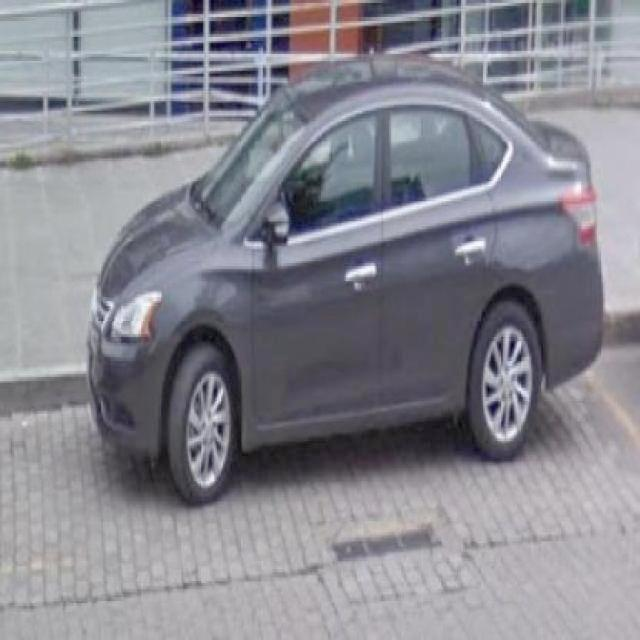car: (80, 52, 606, 506)
